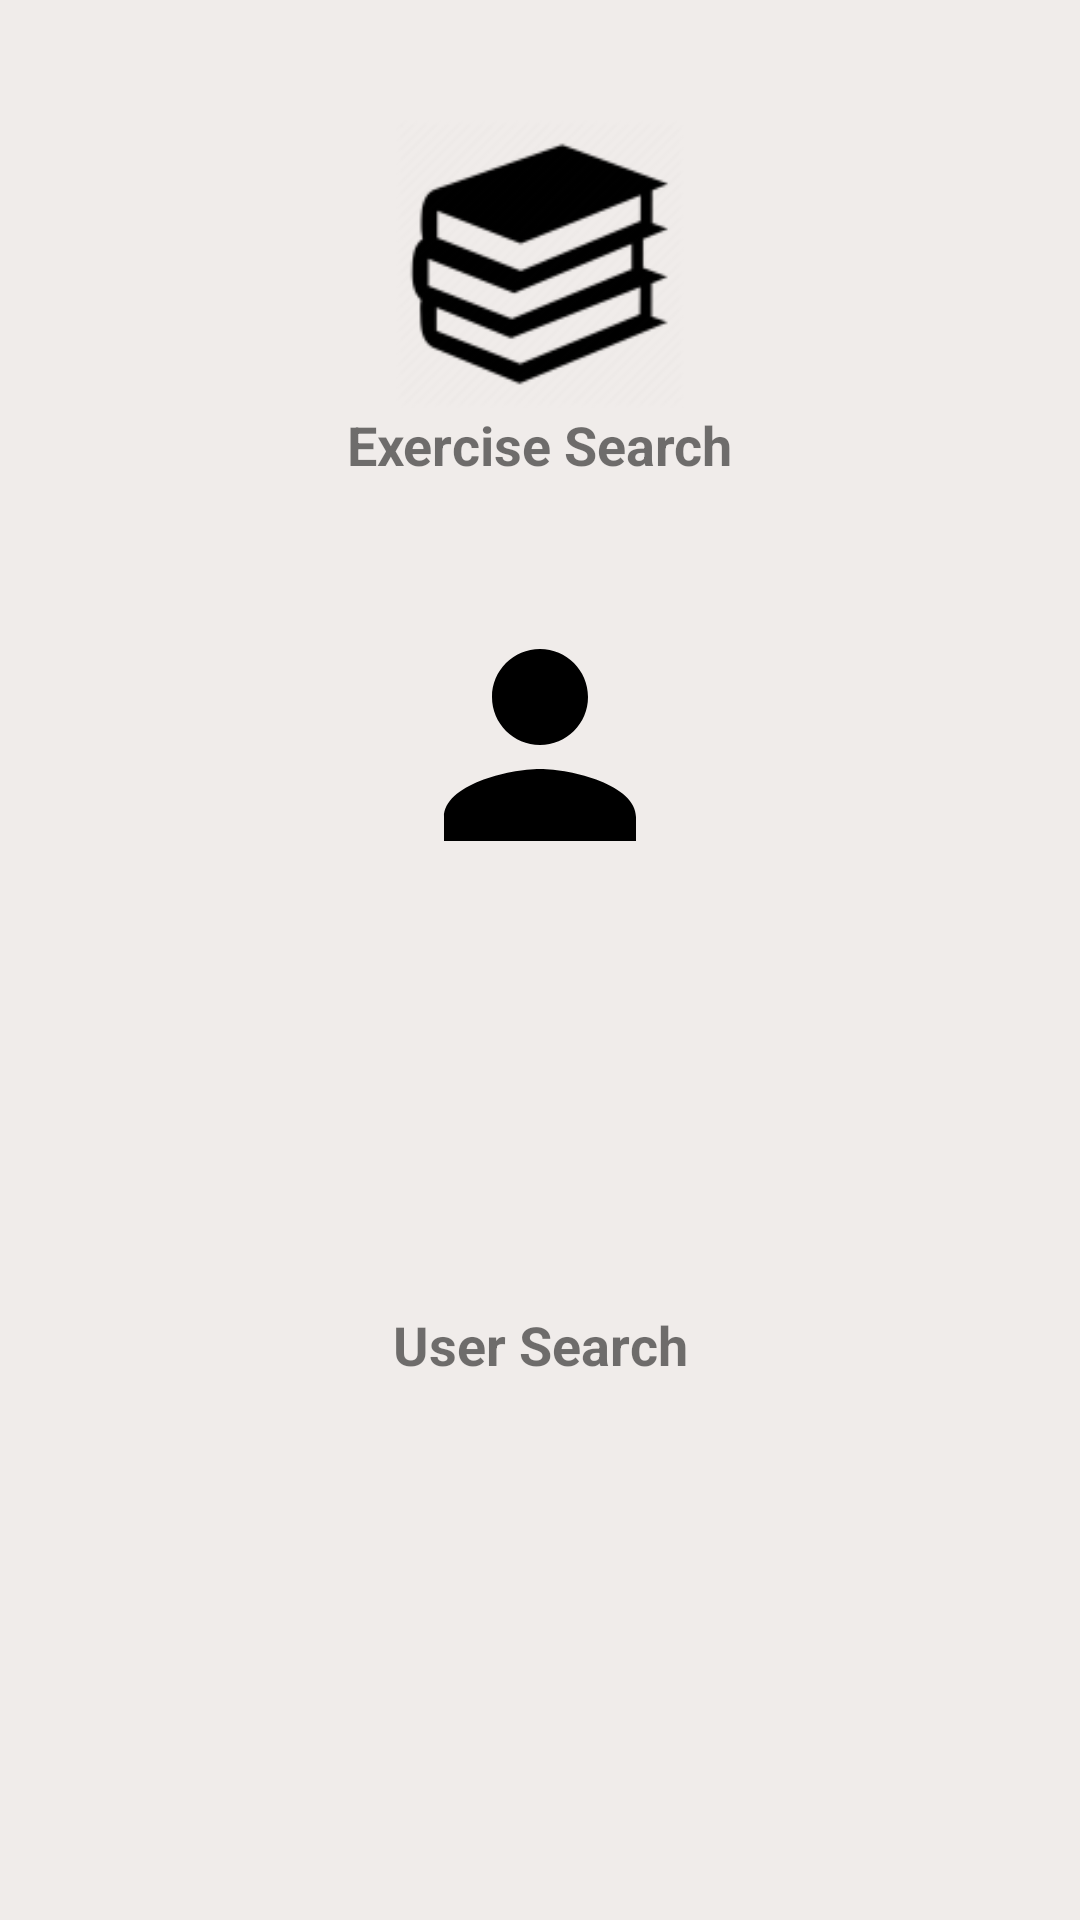

Point at icon controls on the screen. Image size 1080 x 1920, points as (x=x, y=y).
person: (x=540, y=745)
